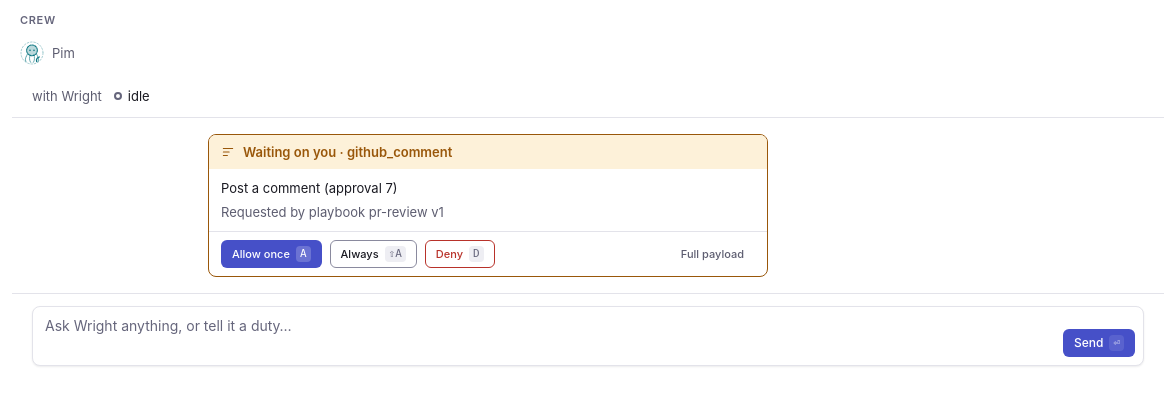
Scenario: thread › 409 always_not_supported shows the kernel's message
Expected: the text "Requested by playbook pr-review v1" is shown, [221,204,444,220]
Click the button "Always ⇧A". click: (373, 254)
box: [330,240,417,268]
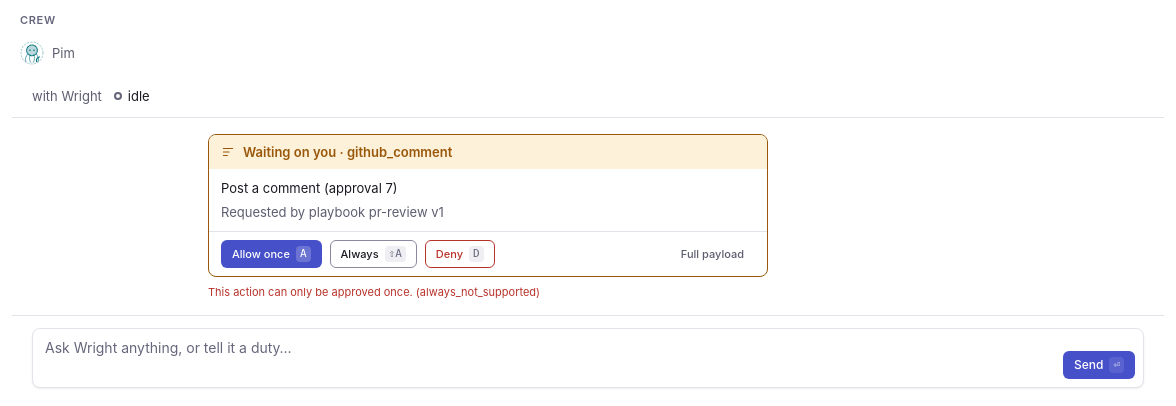
Expected: the text "Post a comment (approval 7)" is shown, [221,180,398,196]
Result: the message shows "This action can only be approved once." at [208,285,540,299]
